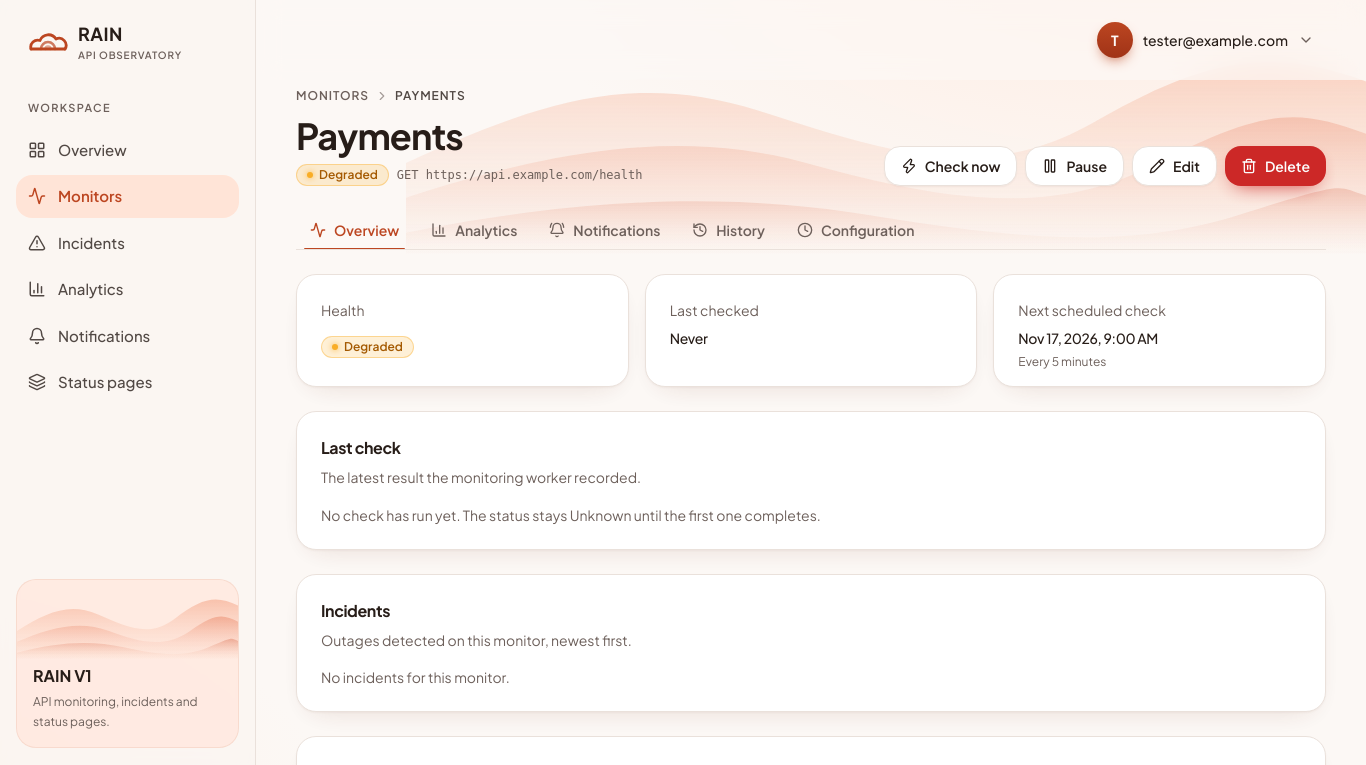
Test: monitor analytics tab › shows health, availability, latency percentiles, counts and charts for the monitor
This screenshot has width=1366, height=765.
What coordinates should you click on to do the following:
click the tab "Analytics"
I would click on:
 (474, 230)
Its box is [417,210,531,250].
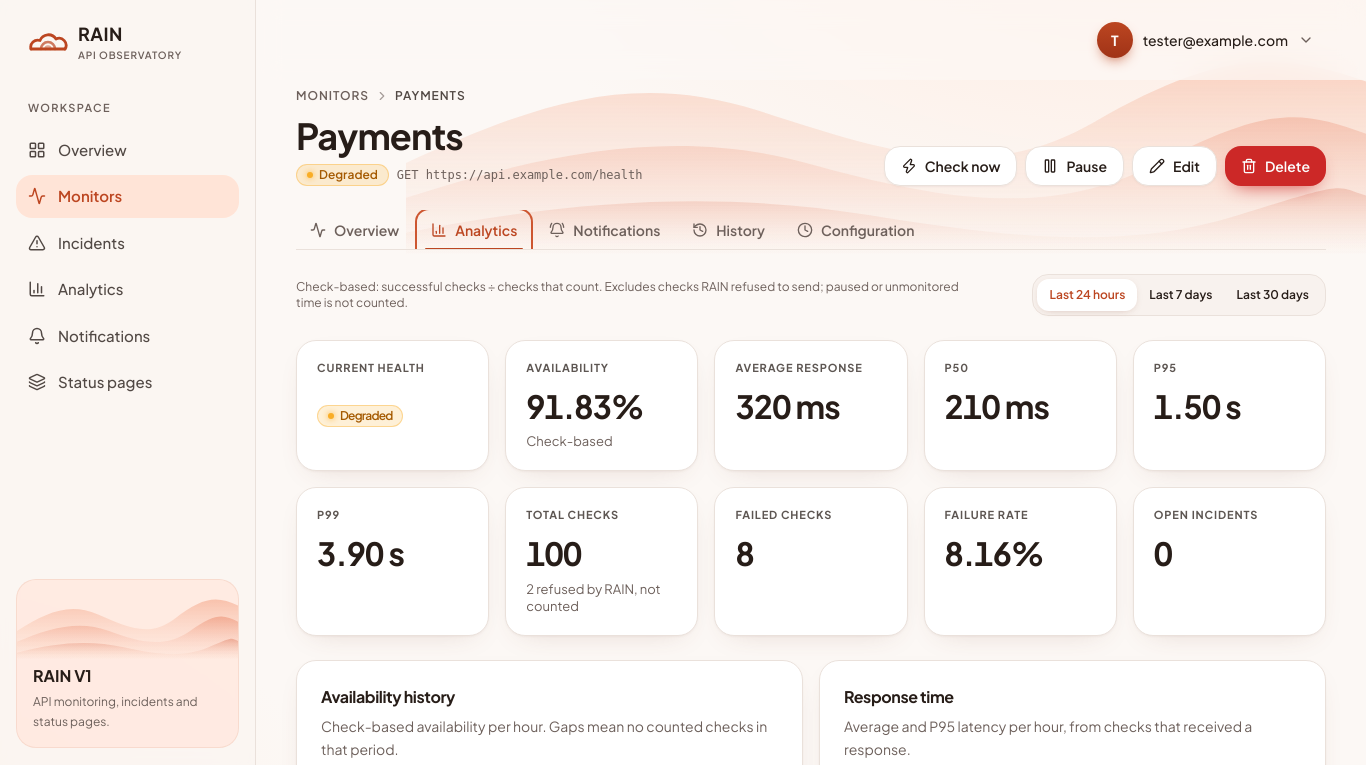
Result: the heading named "Availability: 91.83%" is shown at [526,386,644,426]
Result: the heading named "Average response: 320 ms" is shown at [735,386,840,426]
Result: the heading named "P50: 210 ms" is shown at [945,386,1049,426]
What coordinates should you click on to do the following:
click the button "Last 30 days"
I would click on:
 (1273, 295)
Its box is [1224,279,1321,311].
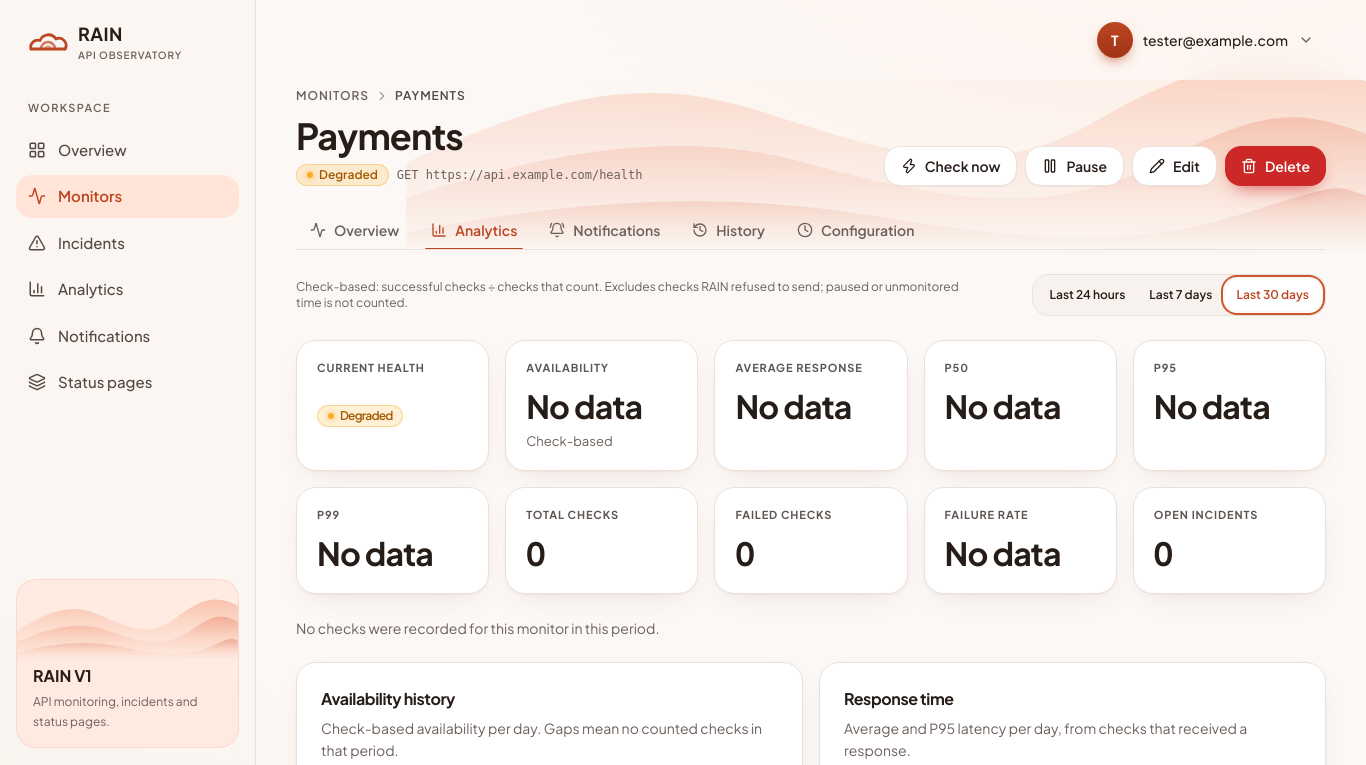
Result: the heading named "Availability: No data" is shown at [526,386,642,426]
Result: the text "No checks were recorded for this monitor in this period." is shown at [296,619,659,637]
